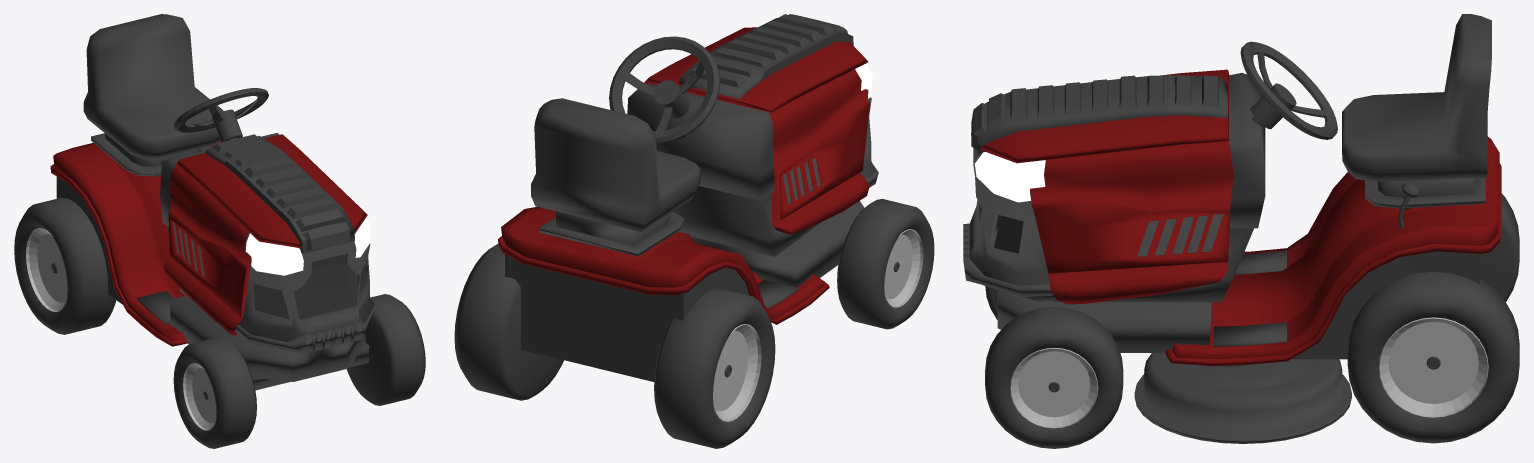
File: Riding Mower with Front Engine.glb
The picture shows the model from 3 angles, left to right: view 1: azimuth 30°, elevation 25°; view 2: azimuth 150°, elevation 25°; view 3: azimuth 270°, elevation 25°; orthographic projection. The views are drawn at different scales.
Visible parts, largest first — view 1: Riding Mower with Front Engine; view 2: Riding Mower with Front Engine; view 3: Riding Mower with Front Engine.
Boxes of the visible parts, x1,y1,x2,y2 form: Riding Mower with Front Engine: (14,14,425,448); Riding Mower with Front Engine: (454,14,934,448); Riding Mower with Front Engine: (963,14,1519,448).
Size of the model in its own units: 4.49 by 5.07 by 7.11.
Materials: 2 (1 with a texture image).
